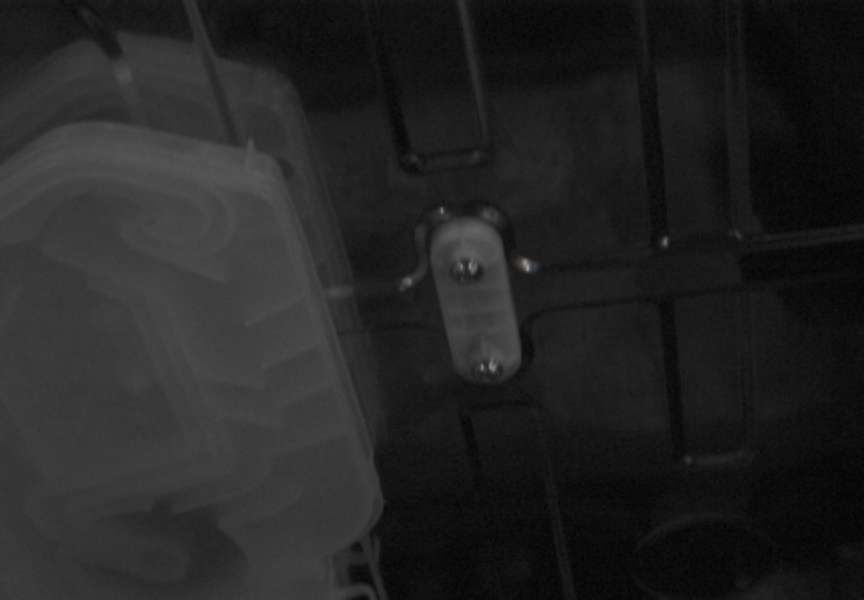screw: (450, 258, 483, 284), (472, 358, 504, 383)
